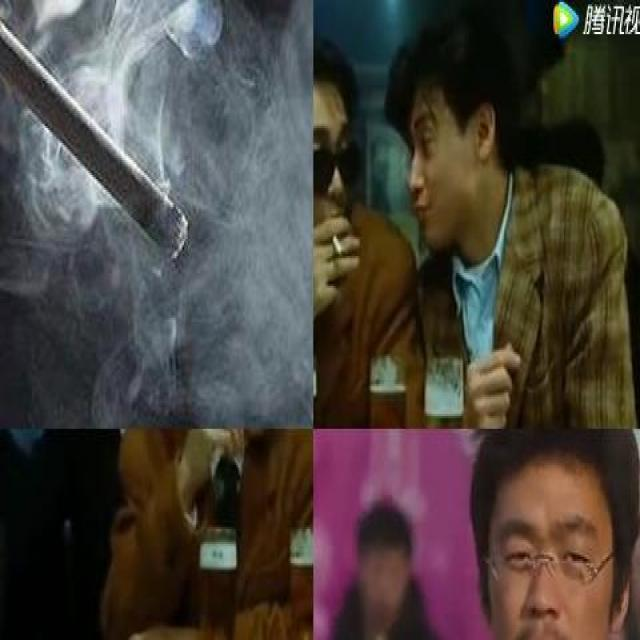smoke: (0, 0, 193, 266), (332, 234, 344, 256)
